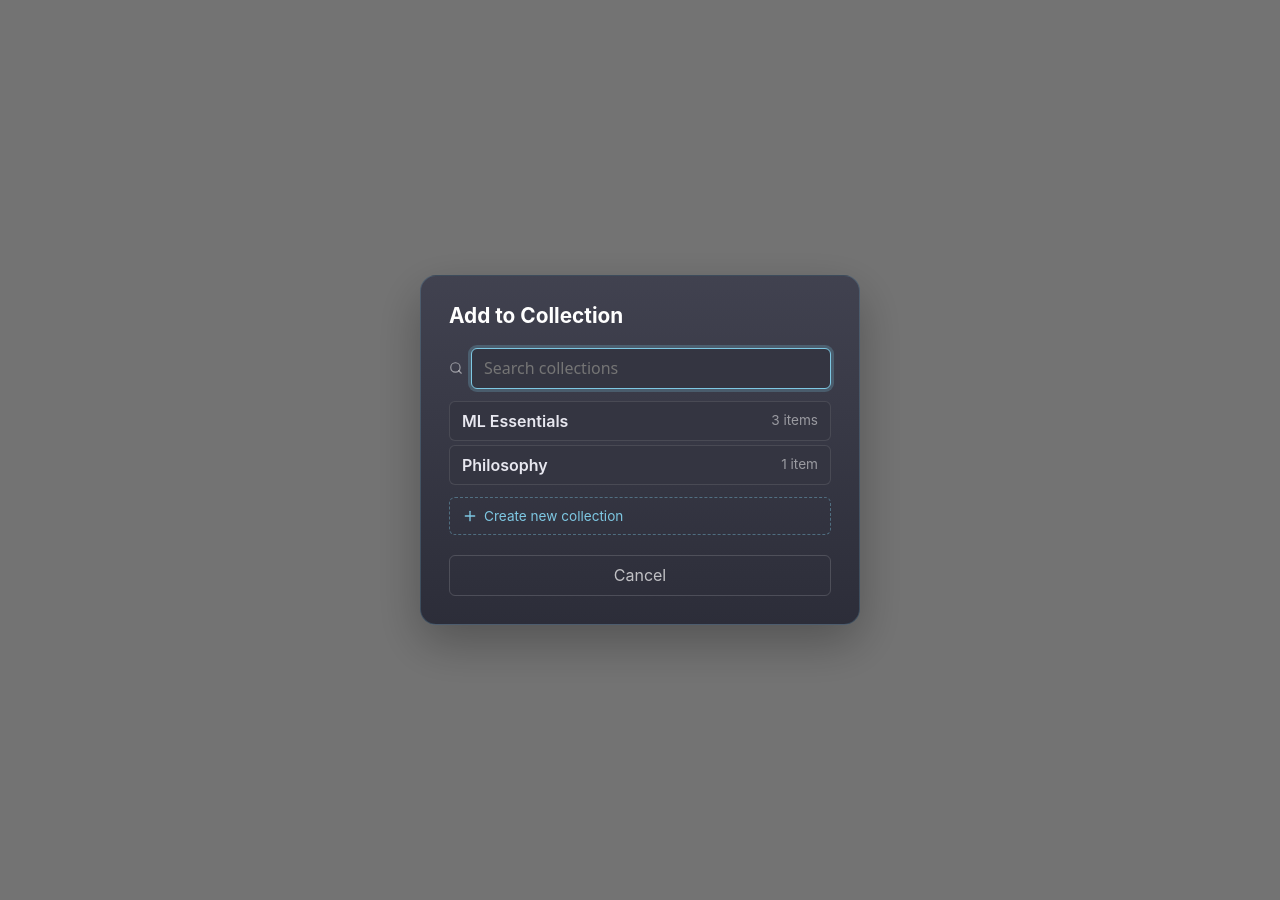
Test: AddToCollectionModal › filters collections by search query
Check: the text "ML Essentials" is shown, box [462, 412, 568, 430]
In the field labelled "Search collections": (651, 368) [471, 348, 831, 389], type "Phil"
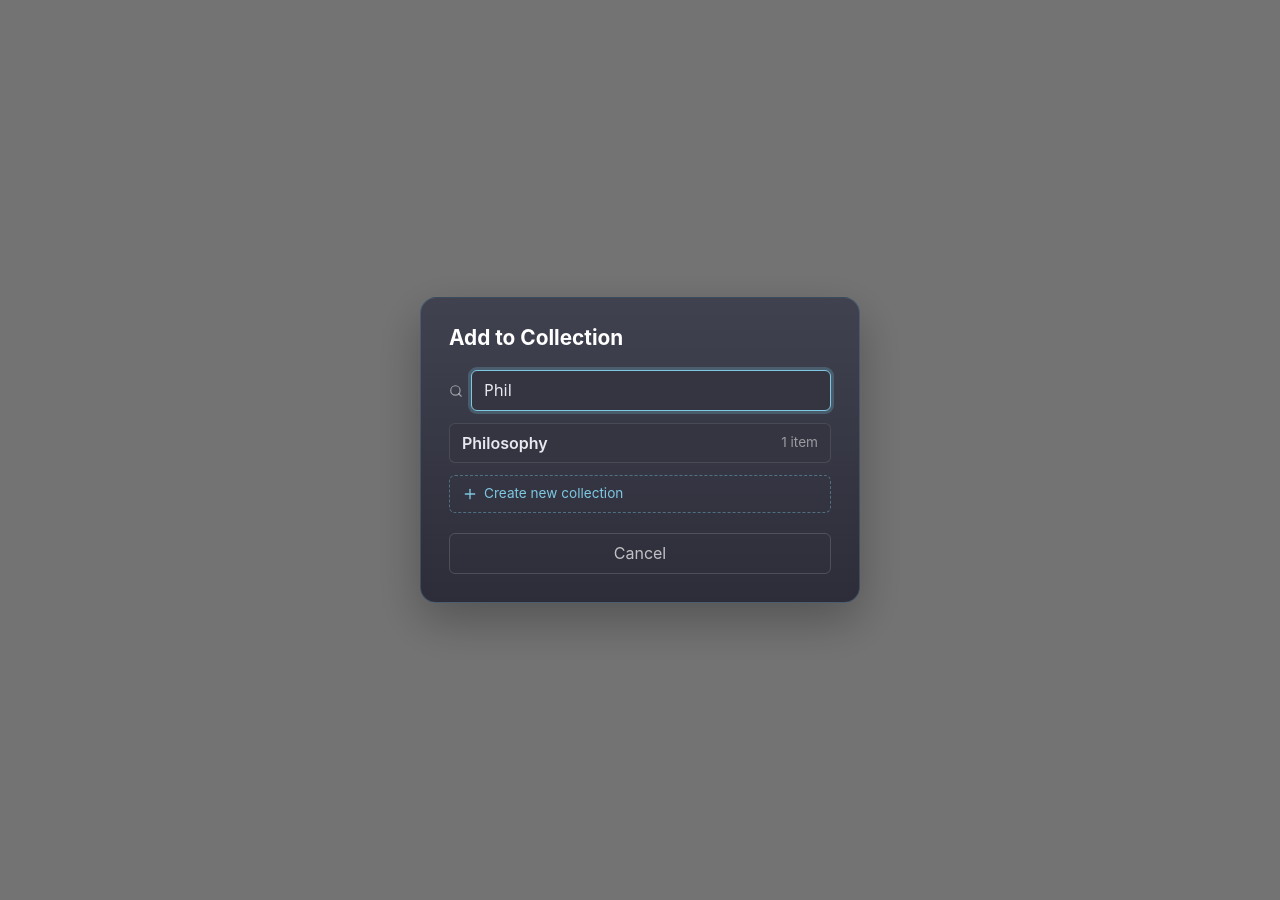
Check: the text "Philosophy" is shown, box [462, 434, 548, 452]
Check: the button "ML Essentials" is gone
